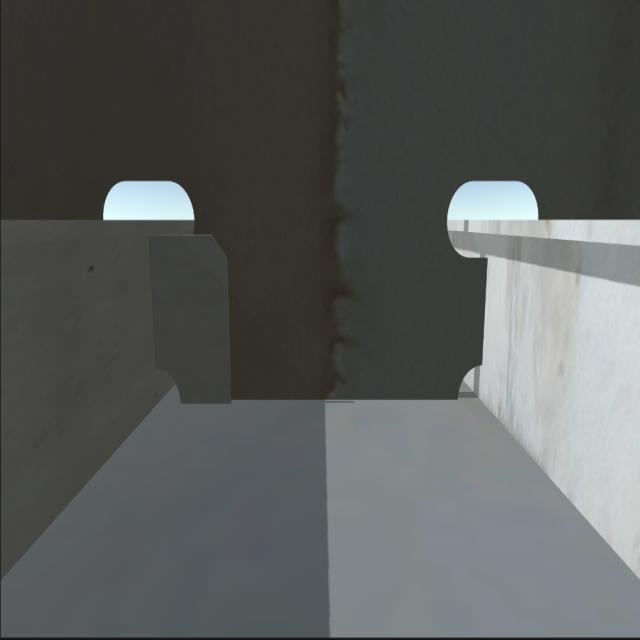fillet_hole: (448, 350, 485, 402), (154, 369, 188, 411)
fillet_yong_jeop_jang: (175, 388, 458, 412)
longi_yong_jeop_jang: (146, 232, 166, 372), (477, 255, 493, 371)
plate_CP03: (148, 231, 232, 405)
